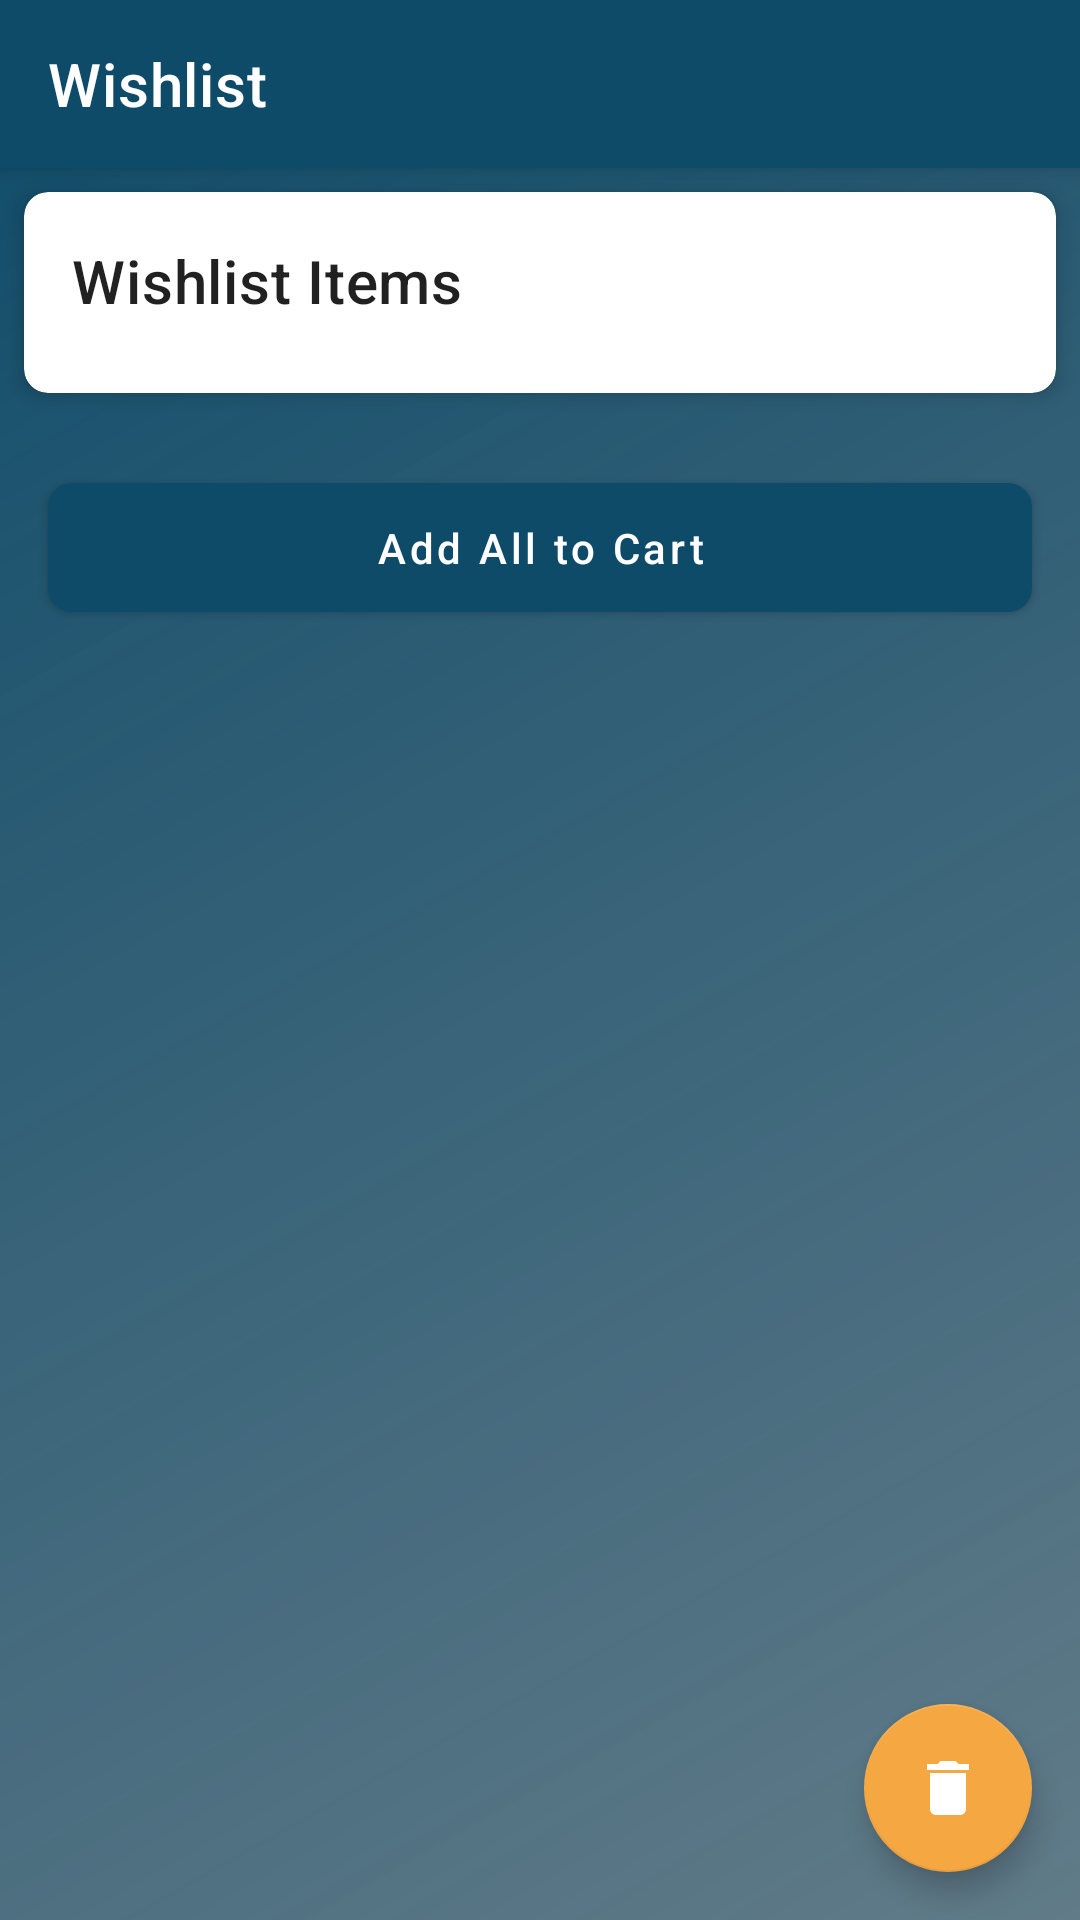

Screen size 1080×1920. Icon name, then its center in pixels as (x=x, y=y):
Clear Wishlist: (x=948, y=1788)
